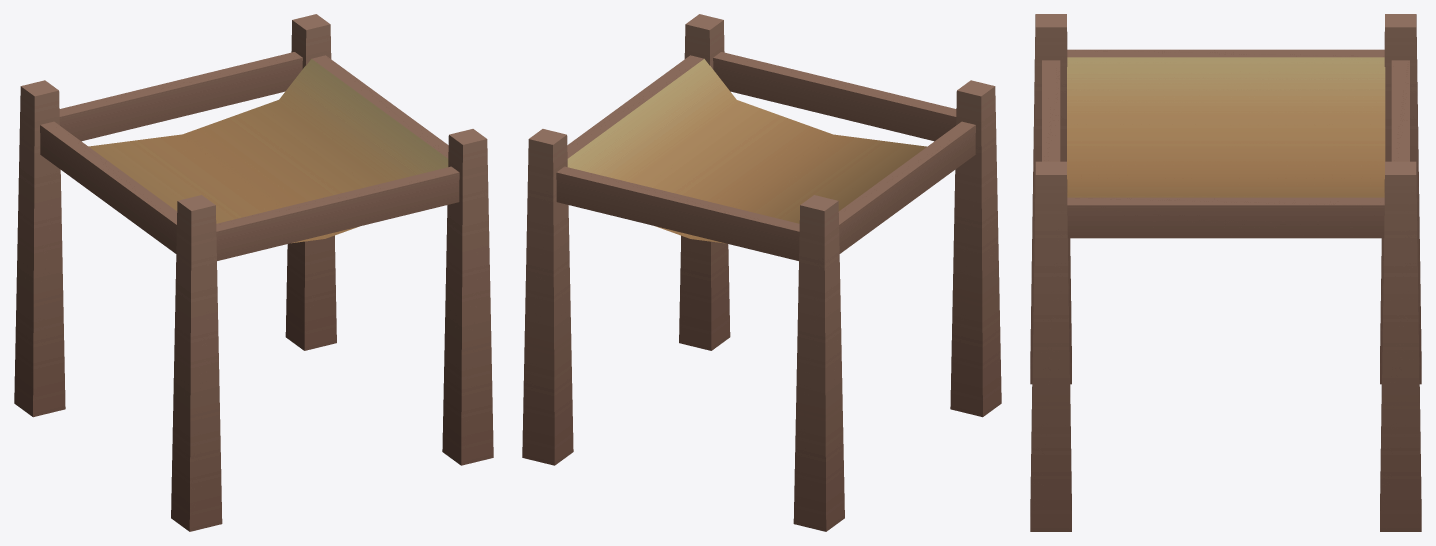
The model's file is canvas_shelter.glb.
The picture shows the model from 3 angles, left to right: view 1: azimuth 30°, elevation 25°; view 2: azimuth 150°, elevation 25°; view 3: azimuth 270°, elevation 25°; orthographic projection. The views are drawn at different scales.
Visible parts, largest first — view 1: structure-canvas; view 2: structure-canvas; view 3: structure-canvas.
Boxes of the visible parts, x1,y1,x2,y2 form: structure-canvas: (14, 14, 493, 531); structure-canvas: (522, 14, 1001, 531); structure-canvas: (1030, 14, 1421, 531).
Bounding box in the file's own units: 1.33 × 1.33 × 1.33.
Materials: 1 (1 with a texture image).
